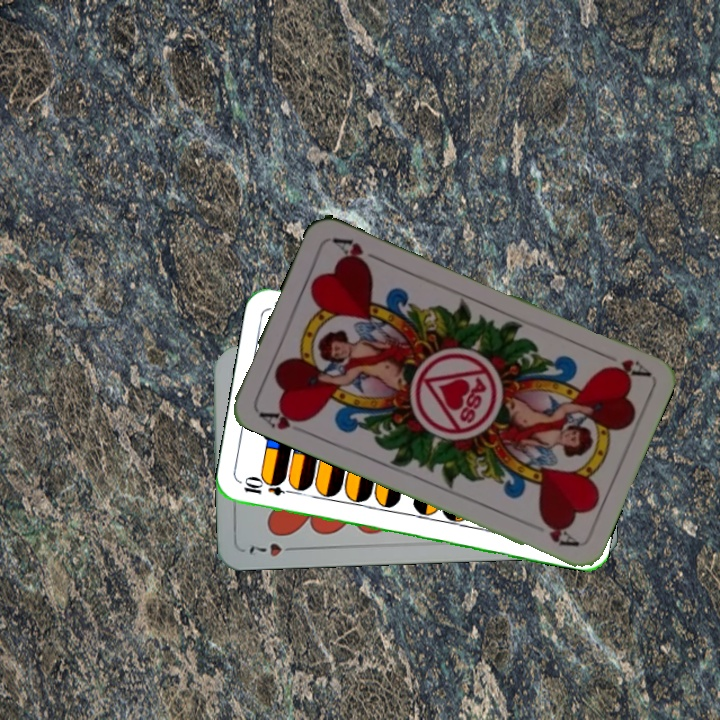E10: (240, 476, 299, 499)
H7: (244, 539, 301, 559)
HA: (595, 348, 652, 381), (254, 404, 310, 433)
